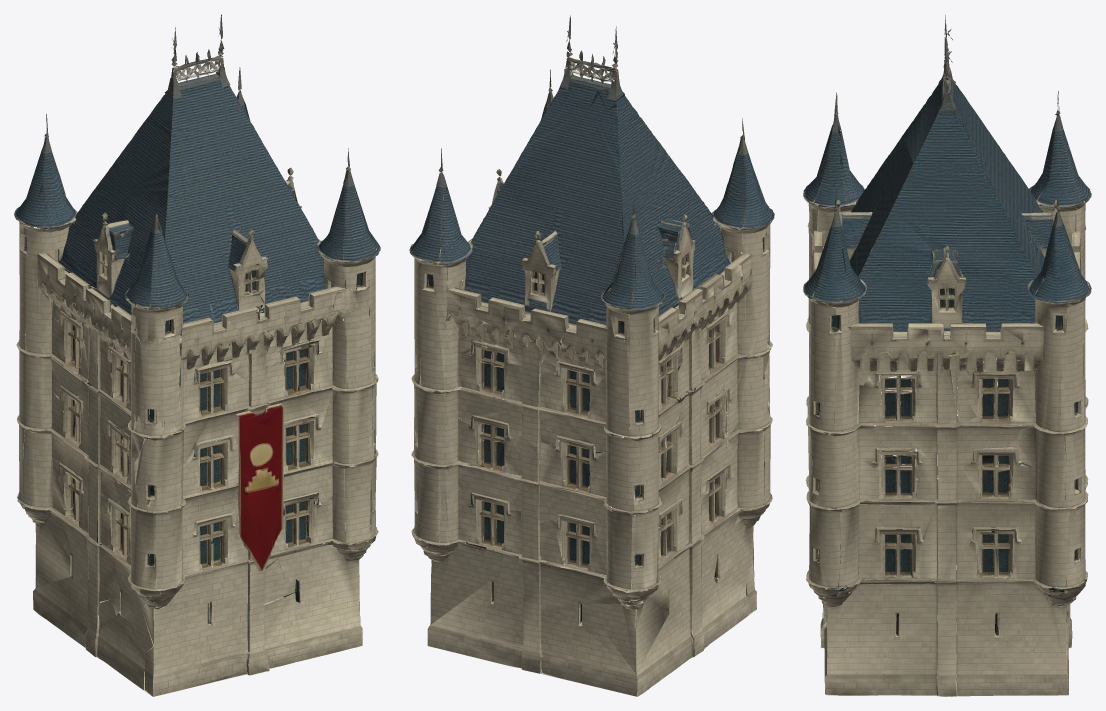
Rendered from donjon.glb.
3 views of the same model, side by side, from view 1: azimuth 30°, elevation 25°; view 2: azimuth 150°, elevation 25°; view 3: azimuth 270°, elevation 25° (orthographic).
Parts seen in each view (by area): view 1: donjon; view 2: donjon; view 3: donjon.
Part boxes in pixels (x1,y1,x2,y2): donjon: (14,14,380,696); donjon: (409,15,774,696); donjon: (803,15,1091,696).
Size of the model in its own units: 16.96 by 40.01 by 16.91.
Materials: 1 (1 with a texture image).
